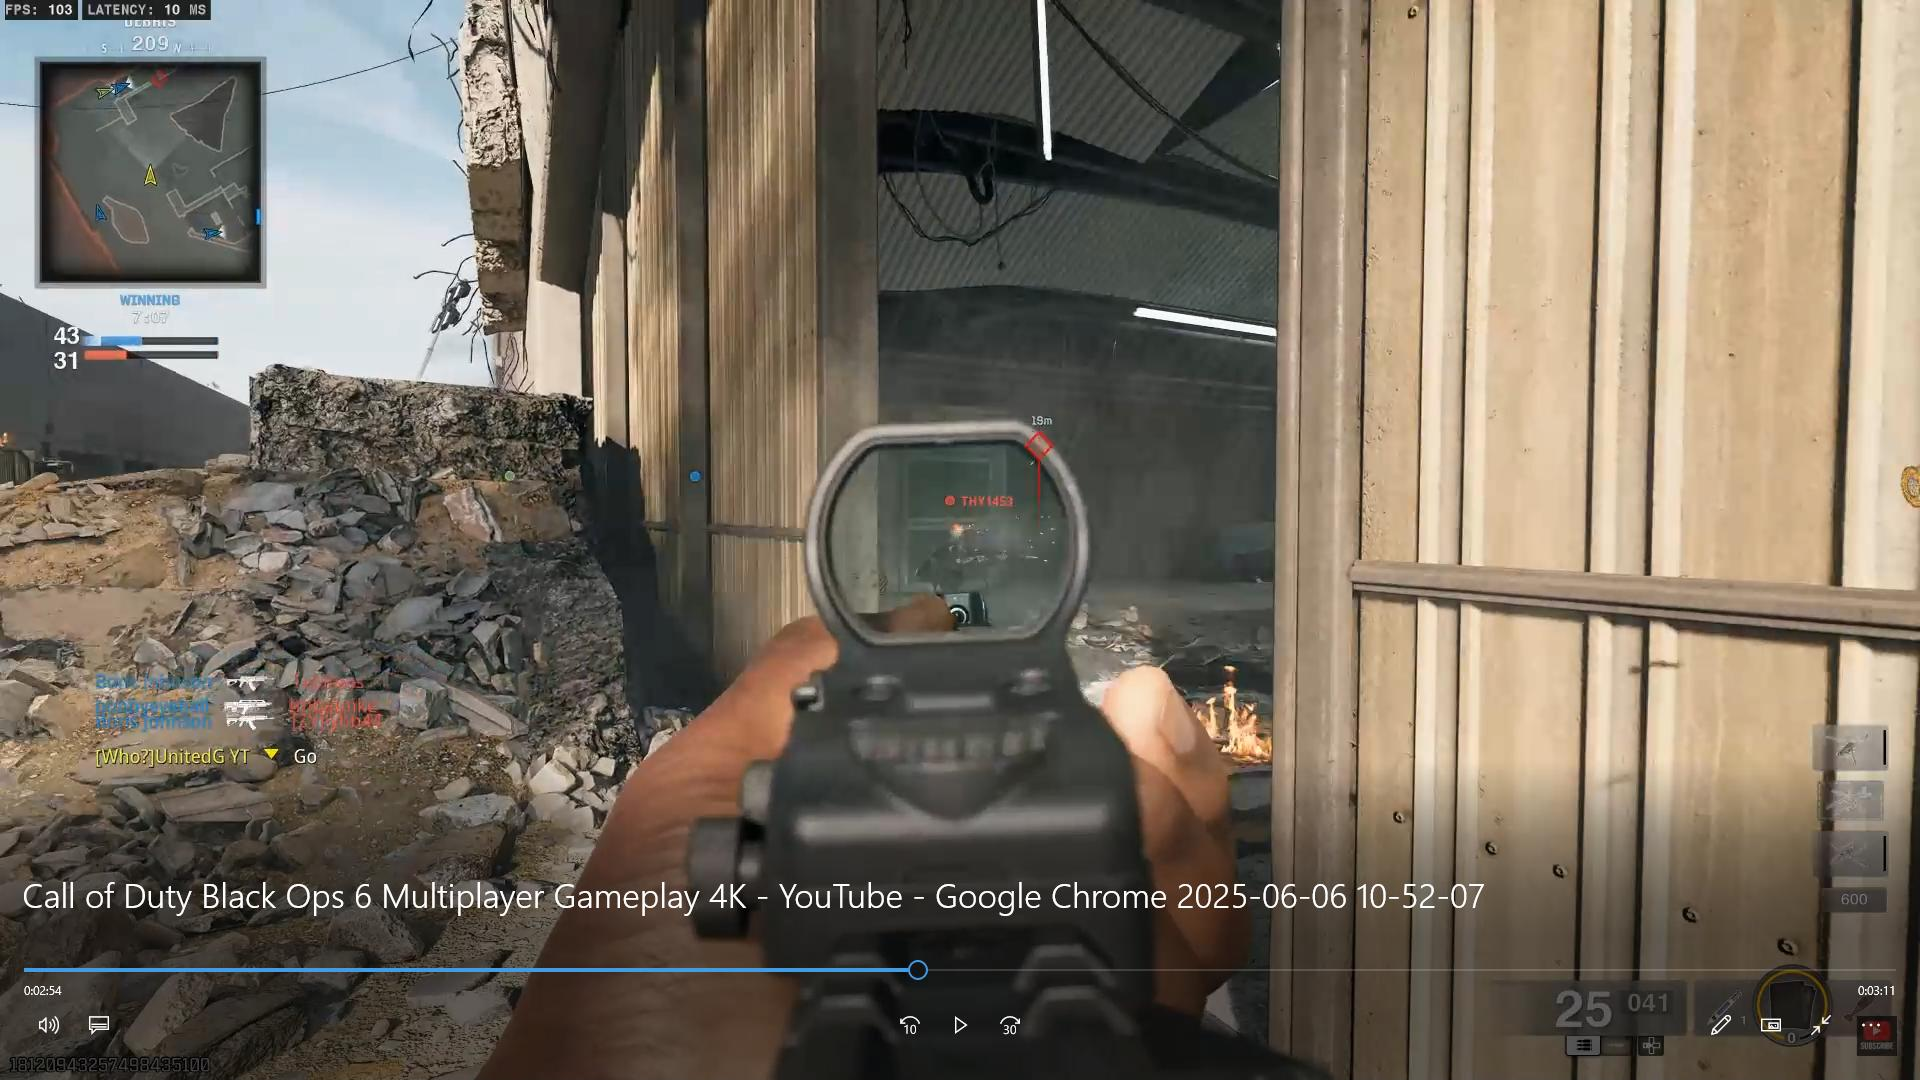Enemy: (935, 480, 1022, 571)
